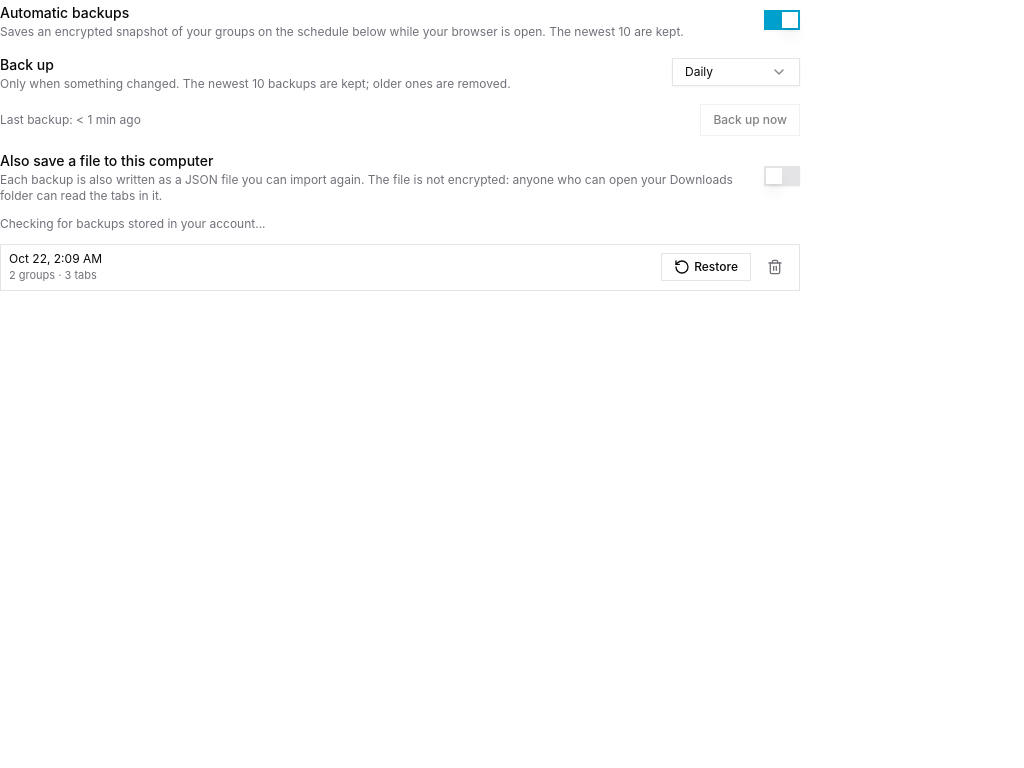
Test: AutoBackups — restore and delete › "Replace" cancelled, or dismissed with Escape, changes nothing and keeps the choice open
The image size is (1024, 768).
Click the button with aria-label "Restore backup from" at point(706, 267), box [661,253,751,281]
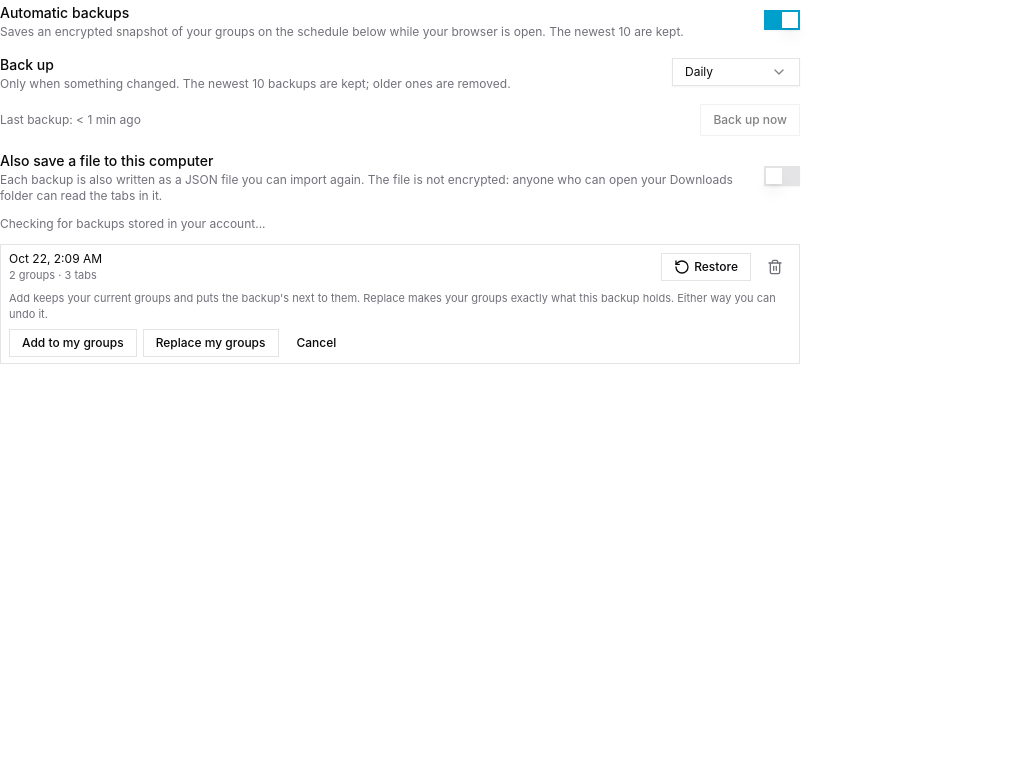
Click the button "Replace my groups" at point(211, 342), box [143,328,278,356]
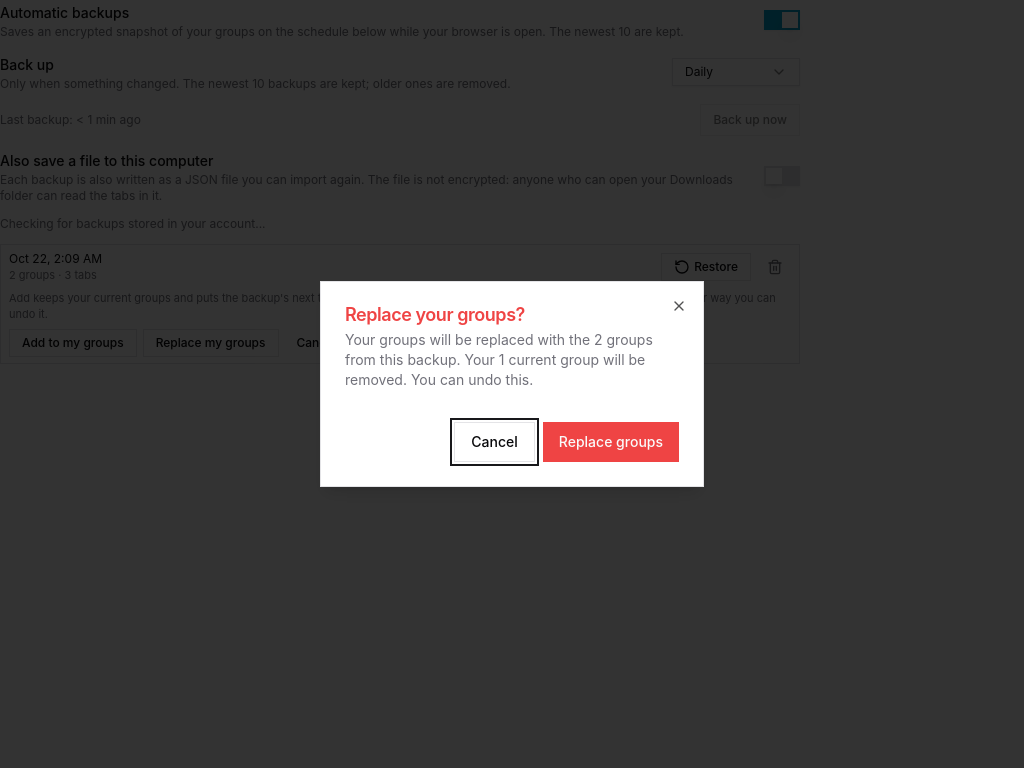
Click the button "Cancel" at point(495, 442), box [454,422,535,462]
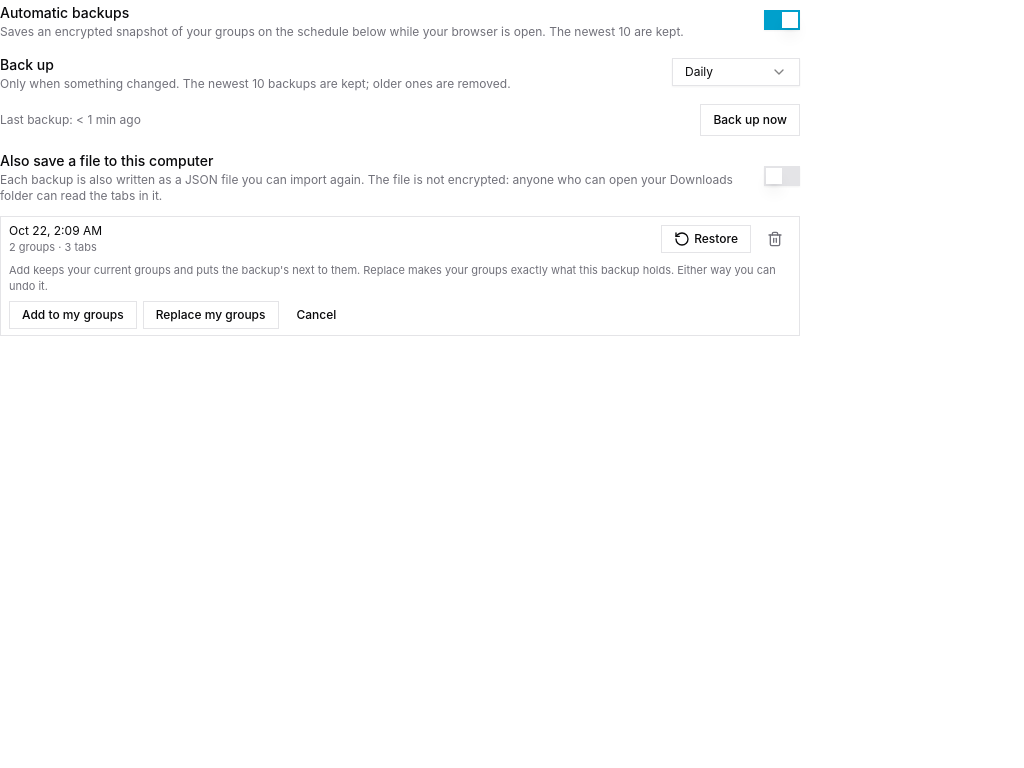
Now the dialog is gone
Click the button "Replace my groups" at point(211, 314), box [143,300,278,328]
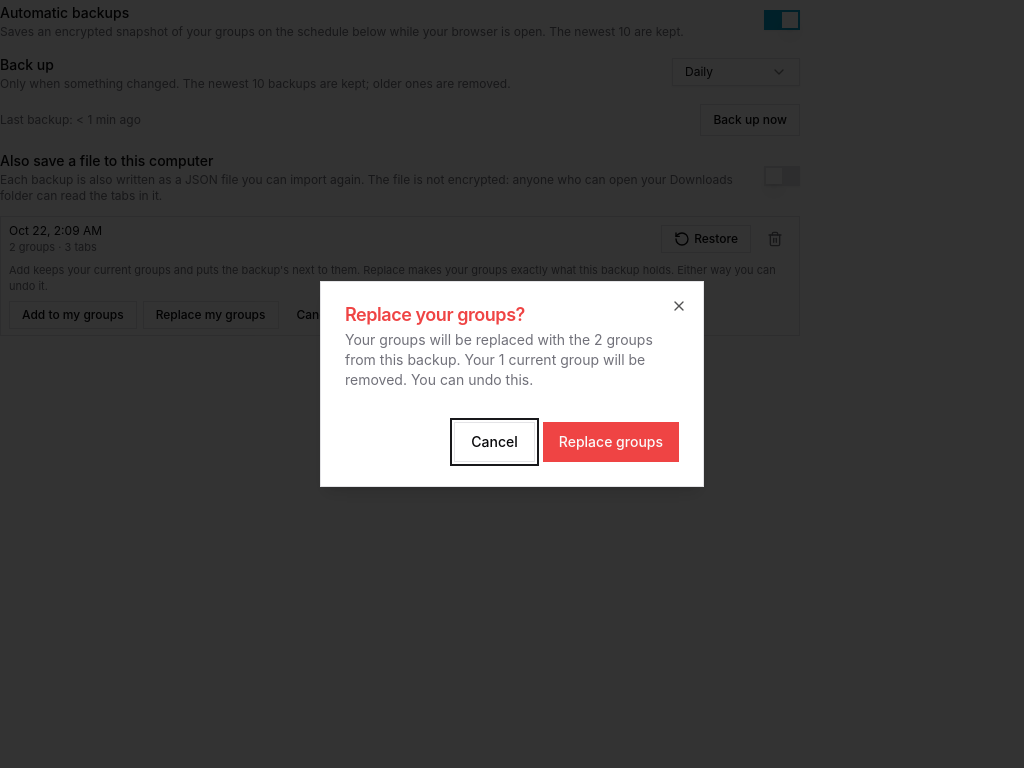
Press Escape in the button "Cancel", box [454,422,535,462]
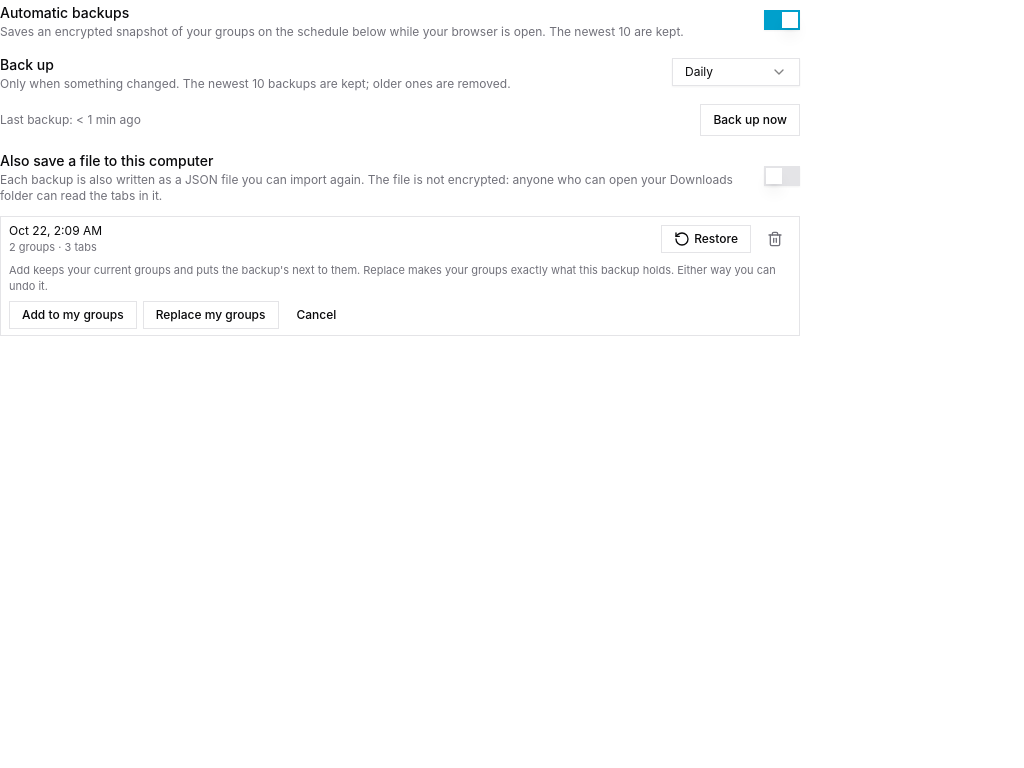
Now the button "Add to my groups" is shown, box [9,300,137,328]
Now the dialog is gone
